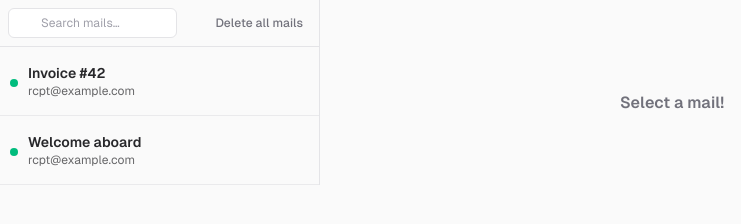
Test: Mailbox screen › shows the no-results message when nothing matches
The width and height of the screenshot is (741, 224).
Type "zzz-no-match" into the field named "Search mails…" at (93, 23), box [8,8,177,38]
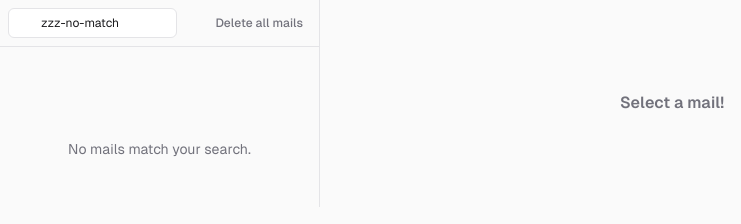
Expected: the text "No mails match your search." is shown, [68,138,251,158]
Expected: the text "Invoice #42" is gone
Expected: the text "Welcome aboard" is gone
